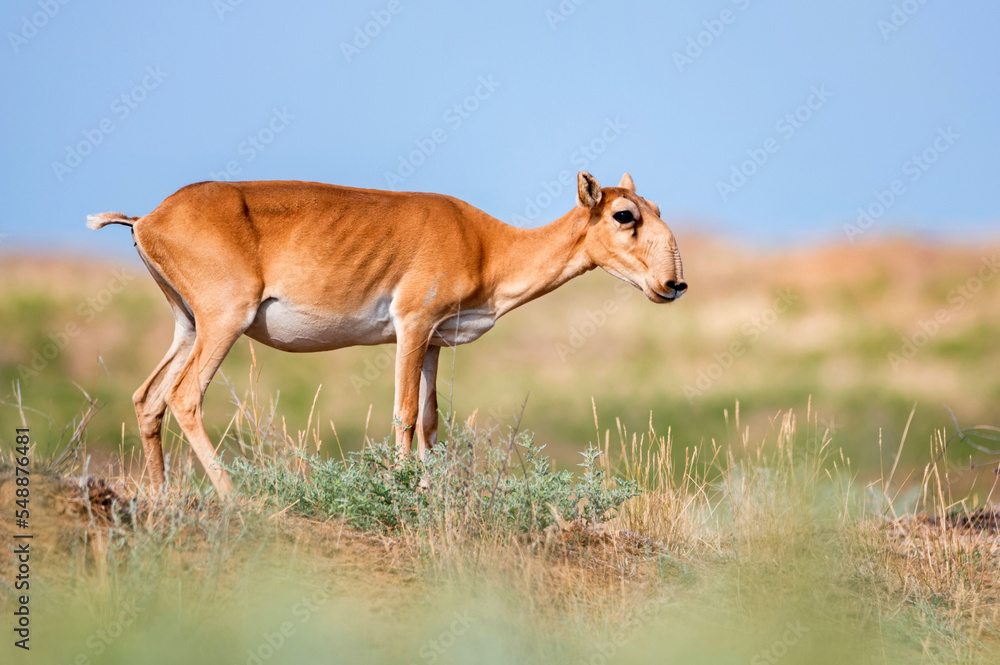saiga: (84, 169, 687, 507)
